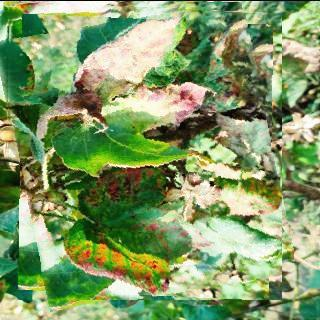blight: (5, 0, 282, 299)
